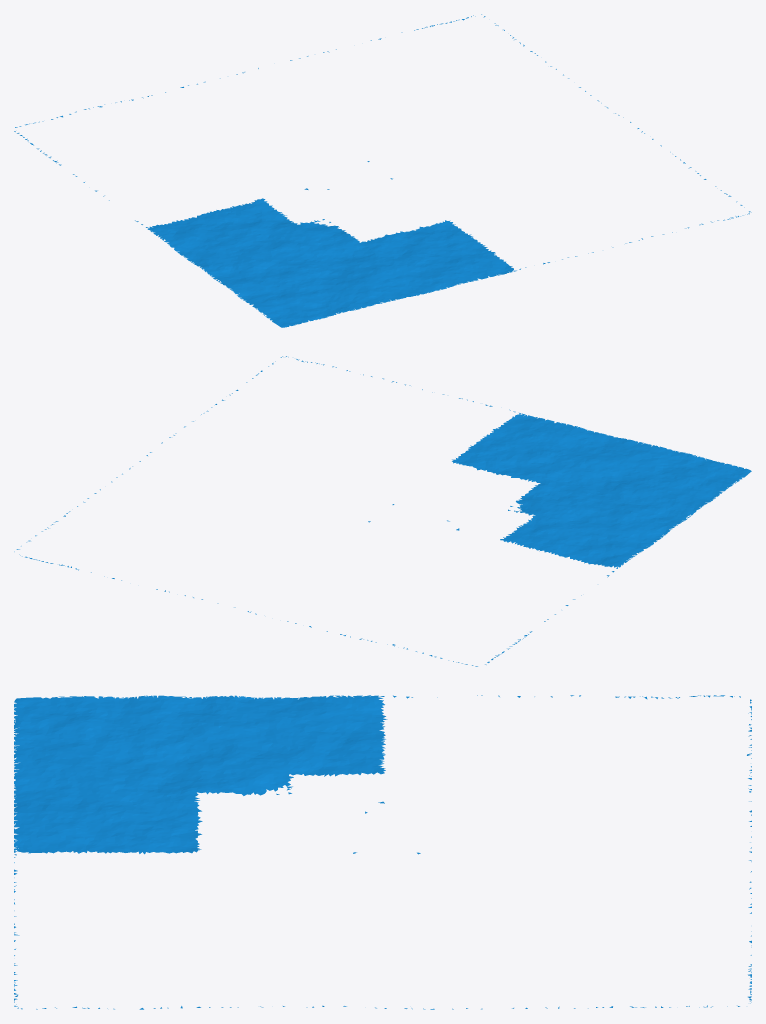
The model's file is ChunkPrefab5.fbx.
3 renders of one model, top to bottom at view 1: azimuth 30°, elevation 25°; view 2: azimuth 150°, elevation 25°; view 3: azimuth 270°, elevation 25°, orthographic. The views are drawn at different scales.
Parts seen in each view (by area): view 1: ChunkPrefab_Clone_; view 2: ChunkPrefab_Clone_; view 3: ChunkPrefab_Clone_.
Boxes of the visible parts, box(x1,y1,x2,y2) form: ChunkPrefab_Clone_: box(14, 14, 751, 327); ChunkPrefab_Clone_: box(14, 356, 751, 666); ChunkPrefab_Clone_: box(14, 695, 751, 1009).
Bounding box in the file's own units: 99992 × 559 × 99997.
